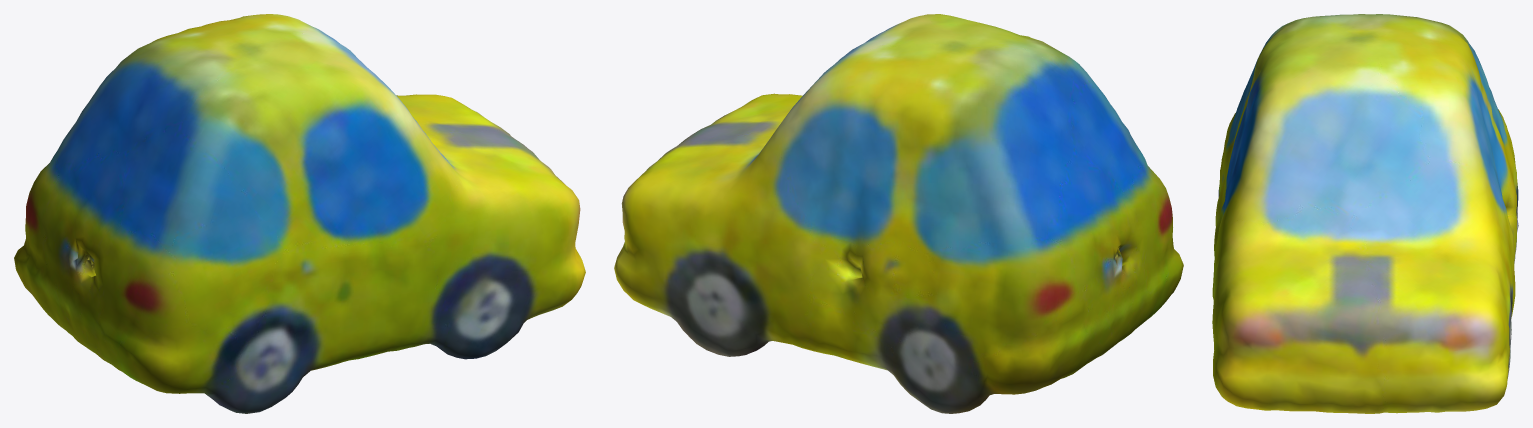
Rendered from yellowcar.fbx.
3 renders of one model, left to right at view 1: azimuth 30°, elevation 25°; view 2: azimuth 150°, elevation 25°; view 3: azimuth 270°, elevation 25°, orthographic. The views are drawn at different scales.
Visible parts, largest first — view 1: Mesh1; view 2: Mesh1; view 3: Mesh1.
Part boxes in pixels (x1,y1,x2,y2): Mesh1: (14,14,585,413); Mesh1: (614,14,1183,413); Mesh1: (1212,14,1518,413).
Bounding box in the file's own units: 120 × 76.42 × 73.98.
1 material, 1 textured.
